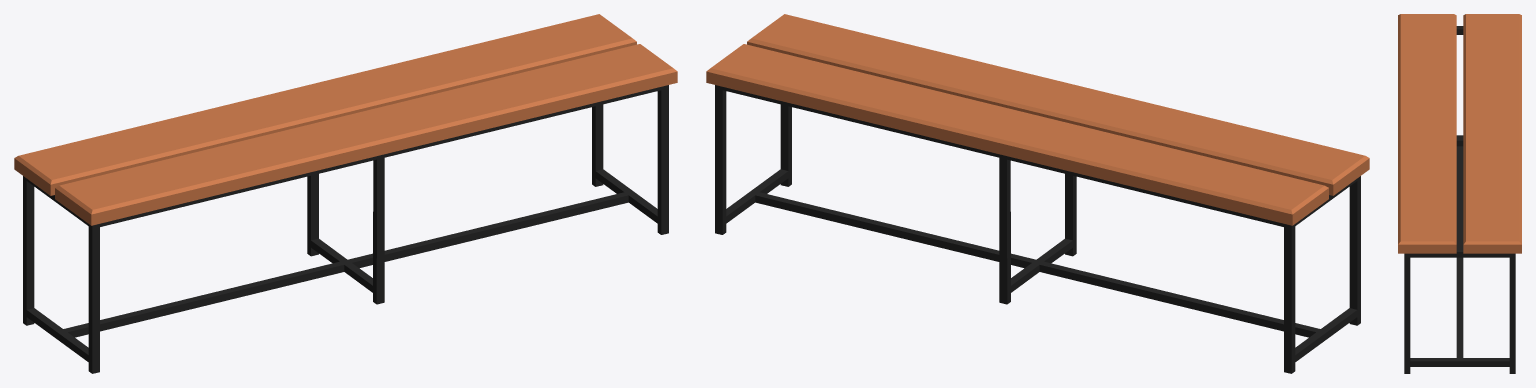
Rendered from bank_long.glb.
The picture shows the model from 3 angles, left to right: view 1: azimuth 30°, elevation 25°; view 2: azimuth 150°, elevation 25°; view 3: azimuth 270°, elevation 25°; orthographic projection. The views are drawn at different scales.
Parts seen in each view (by area): view 1: bank_long; view 2: bank_long; view 3: bank_long.
Part boxes in pixels (<box>): bank_long: <box>14,14,677,373</box>; bank_long: <box>706,14,1369,373</box>; bank_long: <box>1398,14,1521,373</box>.
Size of the model in its own units: 1.85 by 0.5016 by 0.4221.
